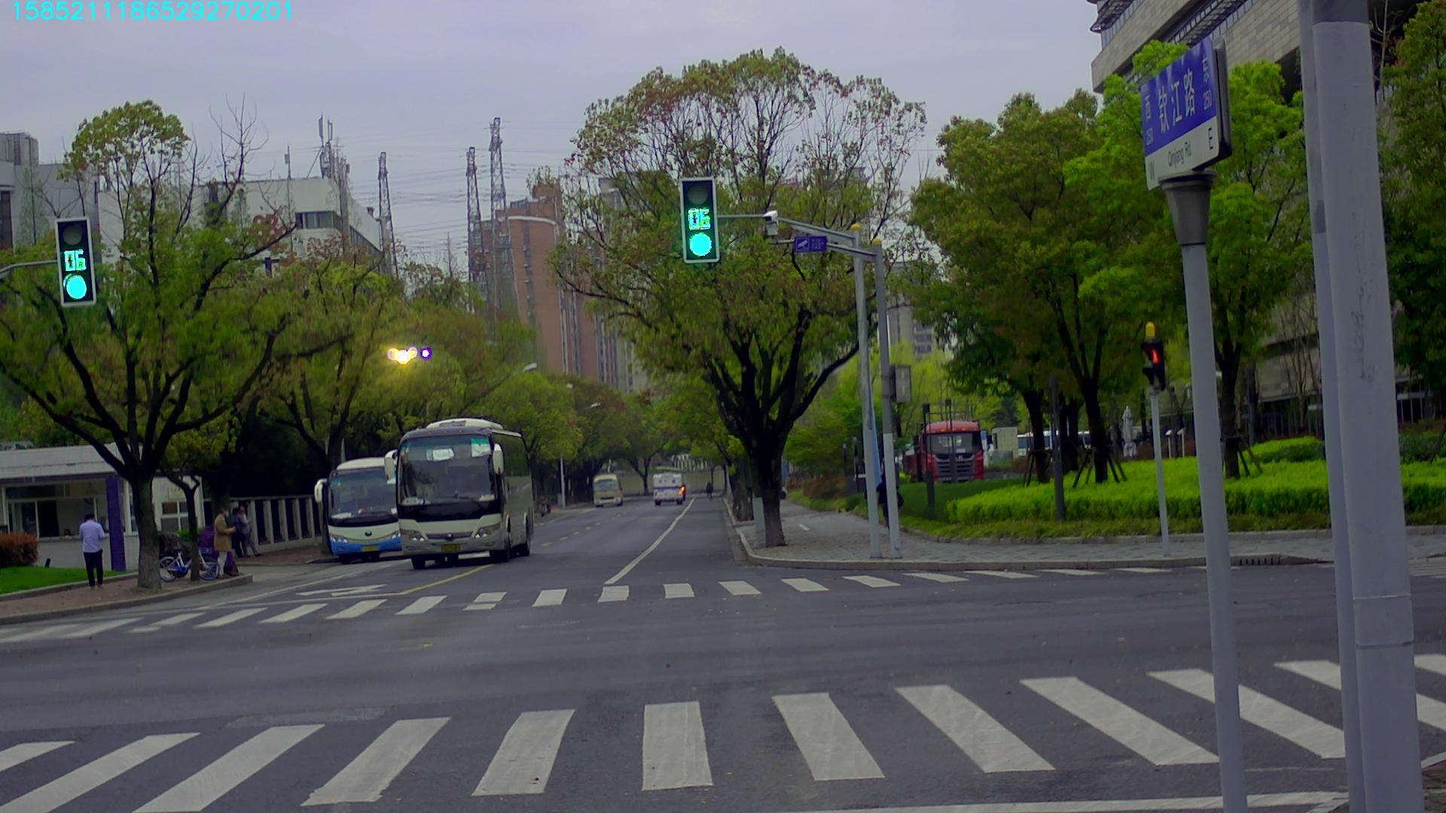green: (56, 218, 93, 305), (682, 178, 717, 260)
